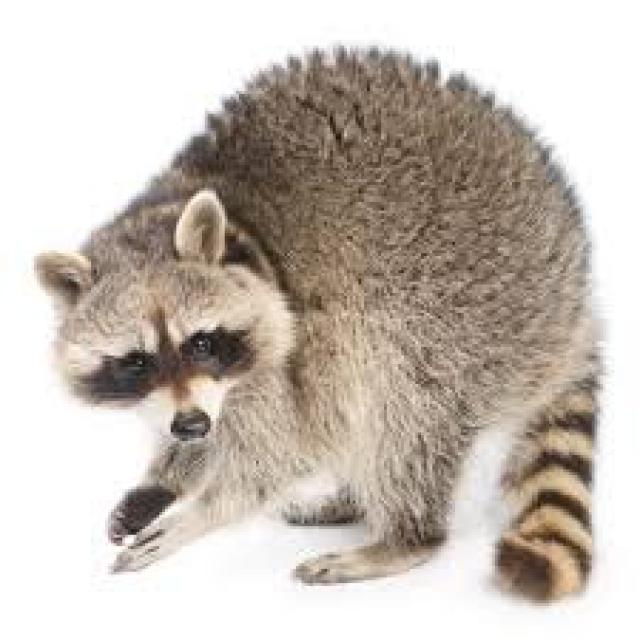Raccoon: (34, 48, 606, 600)
